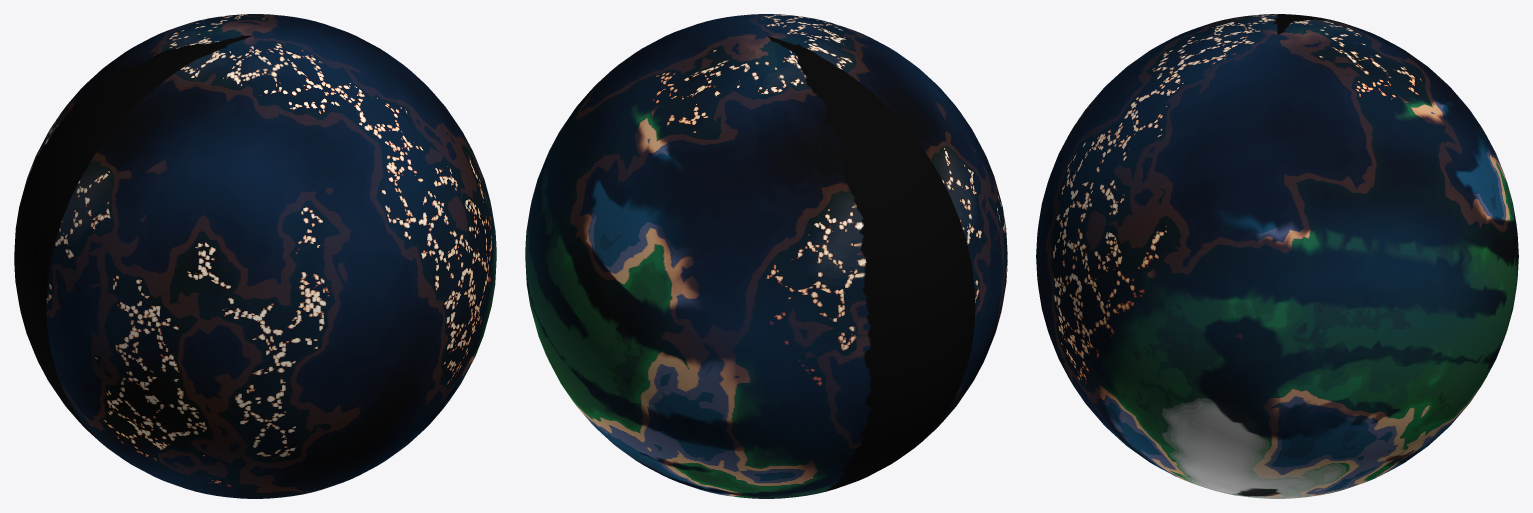
The model's file is planet3.gltf.
3 renders of one model, left to right at view 1: azimuth 30°, elevation 25°; view 2: azimuth 150°, elevation 25°; view 3: azimuth 270°, elevation 25°, orthographic.
Parts seen in each view (by area): view 1: Sphere; view 2: Sphere; view 3: Sphere.
Part boxes in pixels (x1=…): Sphere: x1=14, y1=14, x2=496, y2=498; Sphere: x1=525, y1=14, x2=1007, y2=498; Sphere: x1=1036, y1=14, x2=1518, y2=498.
Bounding box in the file's own units: 1.97 × 2 × 1.97.
Materials: 1 (1 with a texture image).
